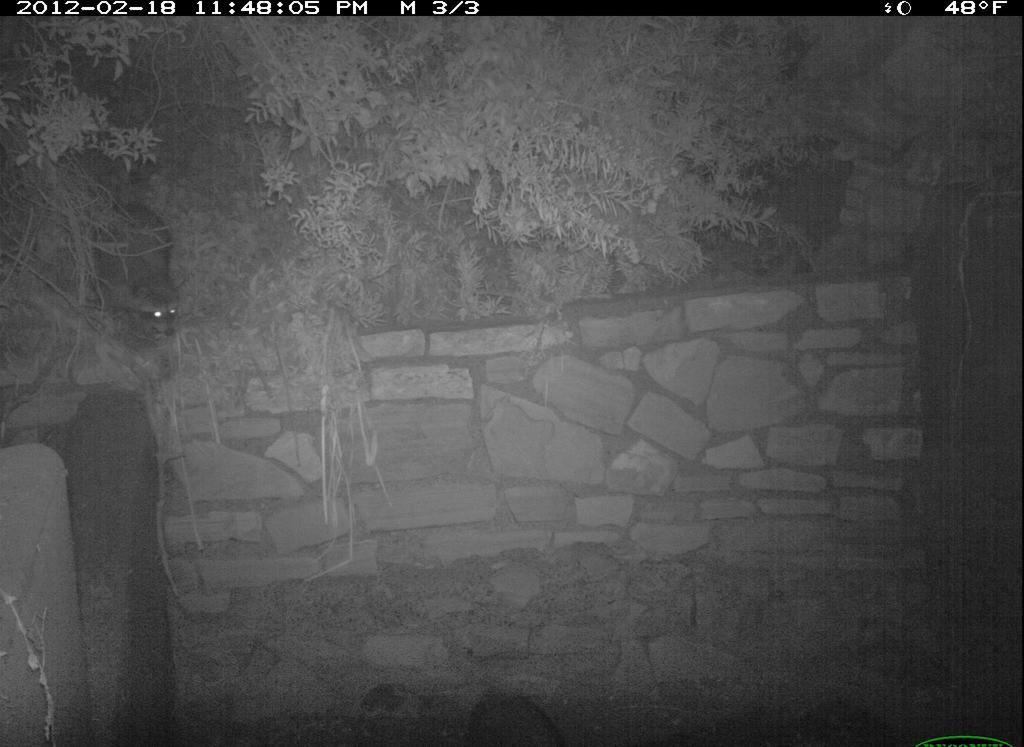raccoon: (79, 180, 184, 337)
